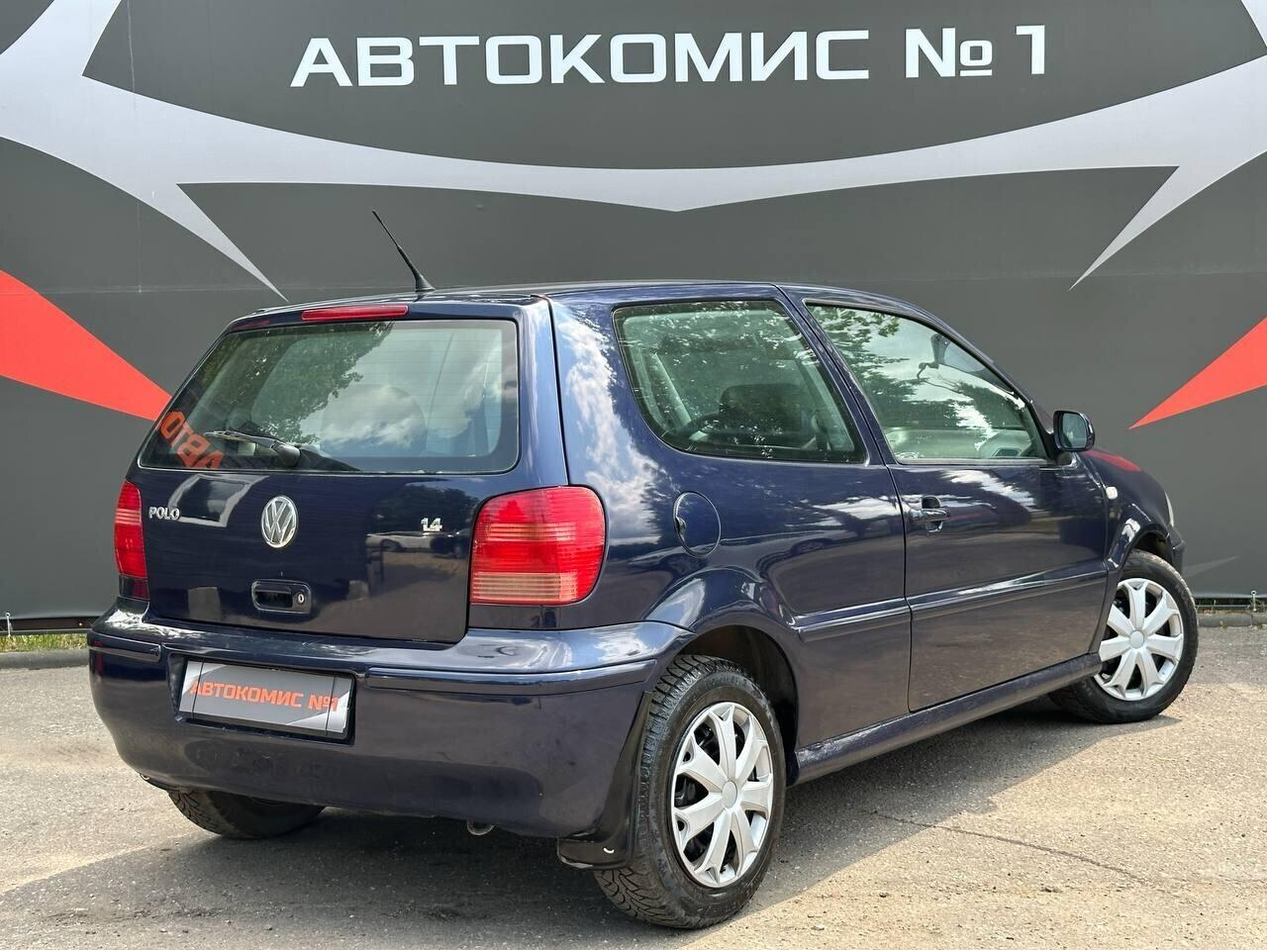Polo_2000-2002: (73, 268, 1186, 917)
